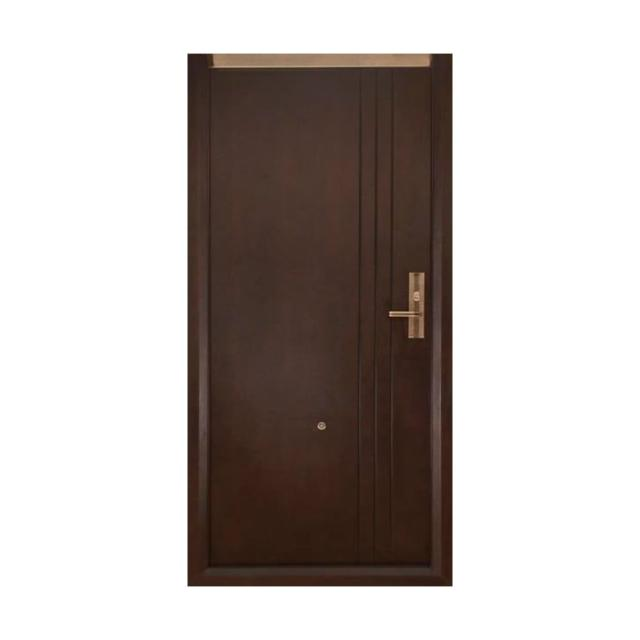door: (188, 53, 453, 586)
